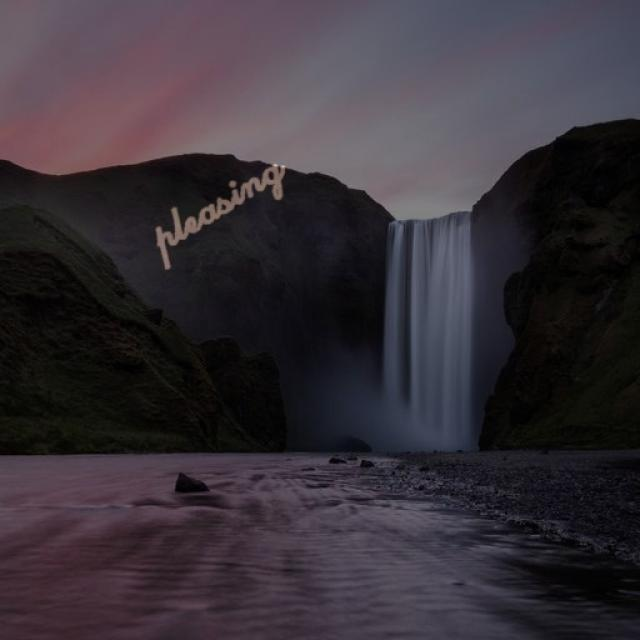watermark: (152, 140, 286, 258)
